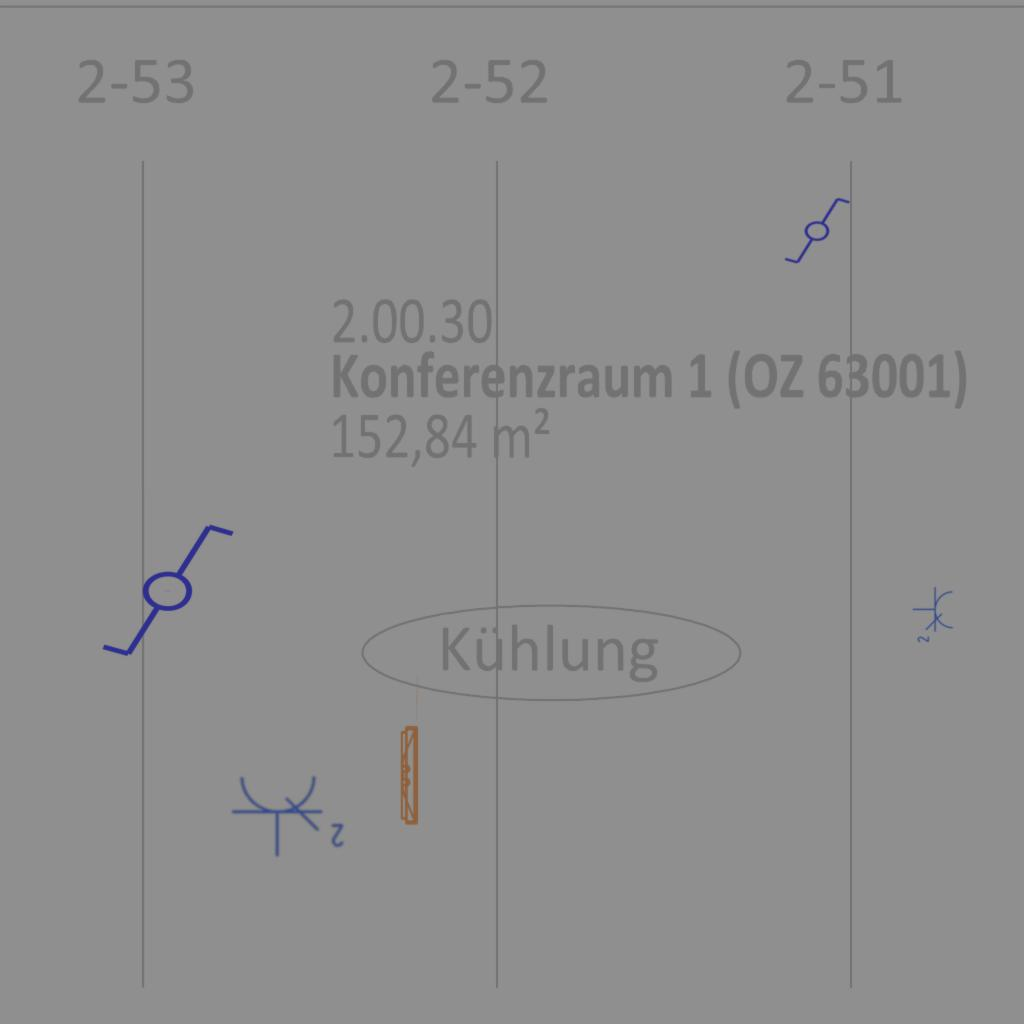Schukosteckdose_mehrfach: (230, 770, 351, 858), (912, 586, 956, 646)
Sicherheitsleuchte_Wandeinbau: (396, 671, 421, 830)
Wechselschalter: (81, 517, 238, 661), (774, 194, 852, 266)
